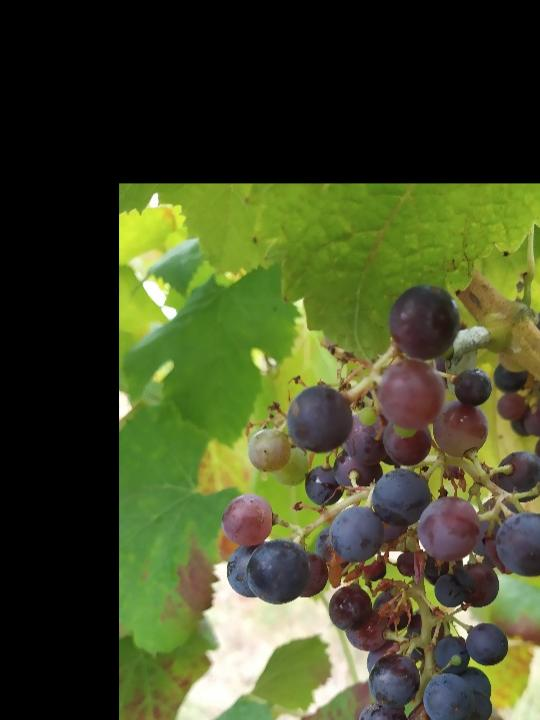grape: (211, 279, 540, 720)
